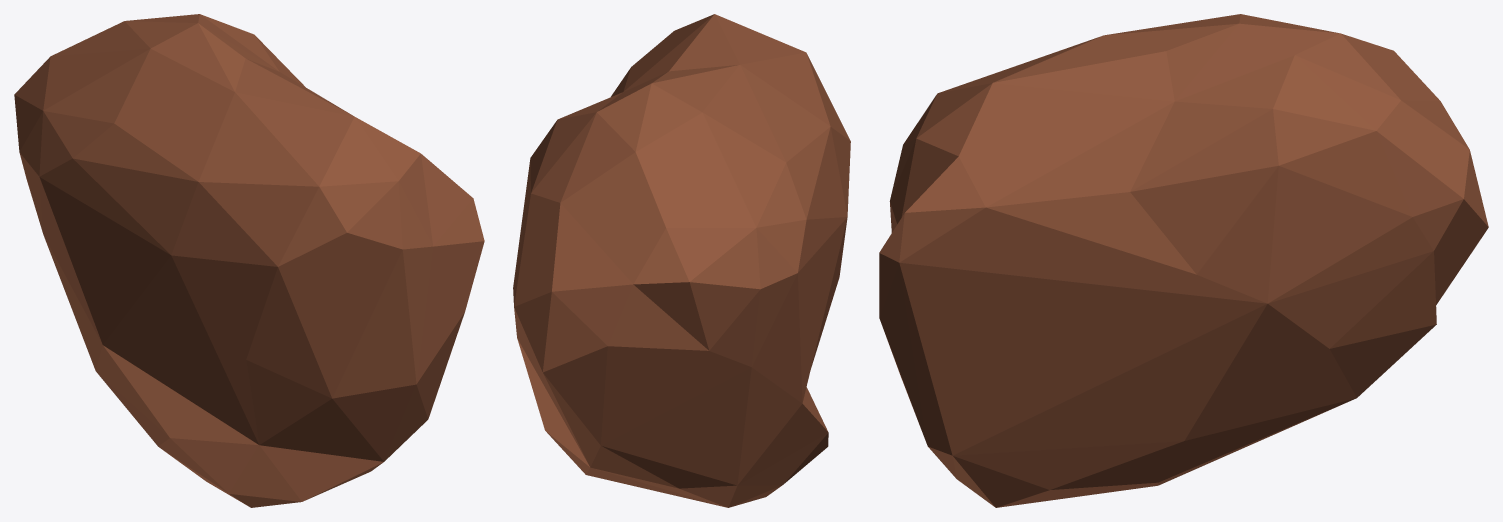
The model's file is Asteroid.fbx.
3 renders of one model, left to right at view 1: azimuth 30°, elevation 25°; view 2: azimuth 150°, elevation 25°; view 3: azimuth 270°, elevation 25°, orthographic. The views are drawn at different scales.
Visible parts, largest first — view 1: Asteroid; view 2: Asteroid; view 3: Asteroid.
Part boxes in pixels (x1,y1,x2,y2): Asteroid: (14, 14, 484, 507); Asteroid: (513, 14, 850, 507); Asteroid: (879, 14, 1488, 507).
Bounding box in the file's own units: 8.39 × 11.67 × 13.59.
